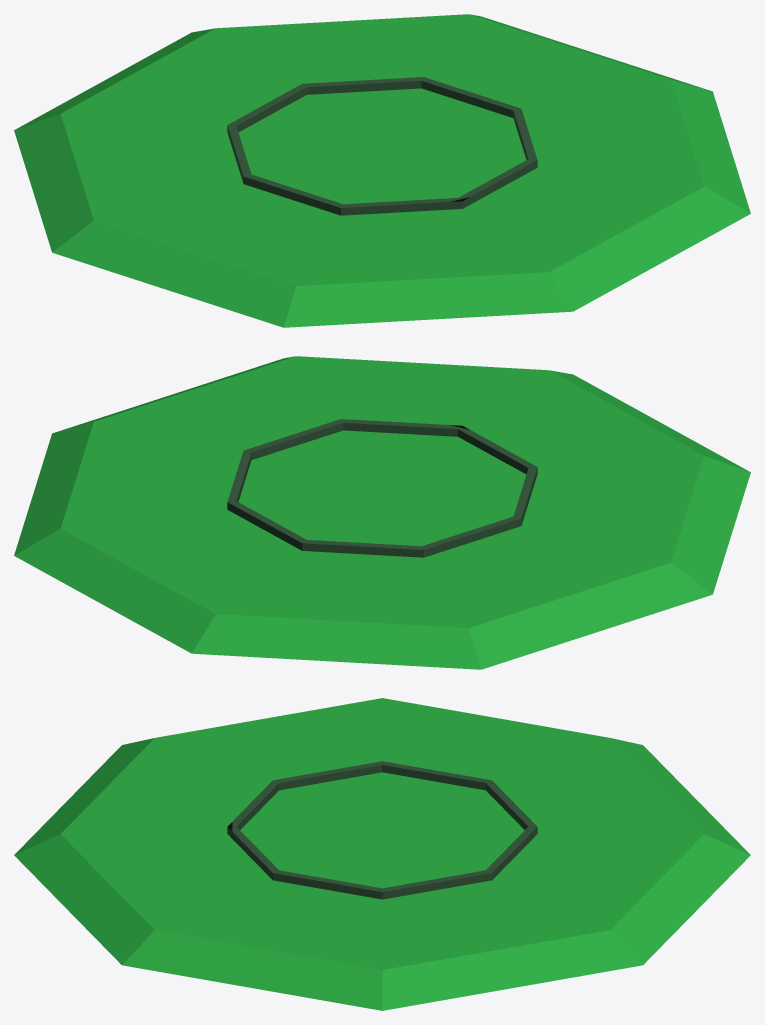
File: traininggrounds.fbx
The picture shows the model from 3 angles, top to bottom: view 1: azimuth 30°, elevation 25°; view 2: azimuth 150°, elevation 25°; view 3: azimuth 270°, elevation 25°; orthographic projection. The views are drawn at different scales.
Parts seen in each view (by area): view 1: pCylinder1; view 2: pCylinder1; view 3: pCylinder1.
Boxes of the visible parts, left/top/right/bottom form: pCylinder1: left=14, top=14, right=750, bottom=327; pCylinder1: left=14, top=356, right=750, bottom=669; pCylinder1: left=14, top=698, right=750, bottom=1010.
Bounding box in the file's own units: 21.09 × 0.9013 × 21.09.
Materials: 1 (1 with a texture image).
